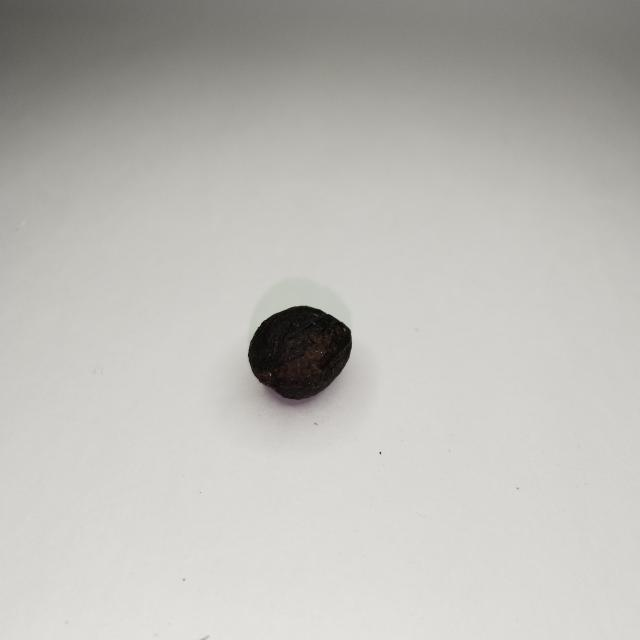Danado: (247, 305, 355, 404)
